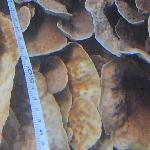dead: (1, 3, 143, 145)
